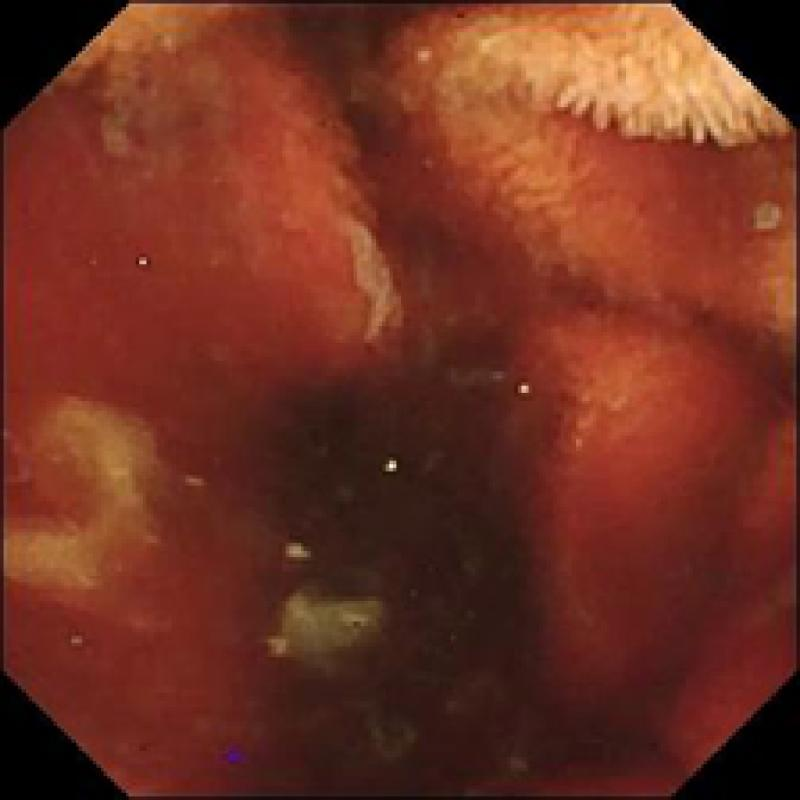bleeding: (0, 0, 734, 800)
